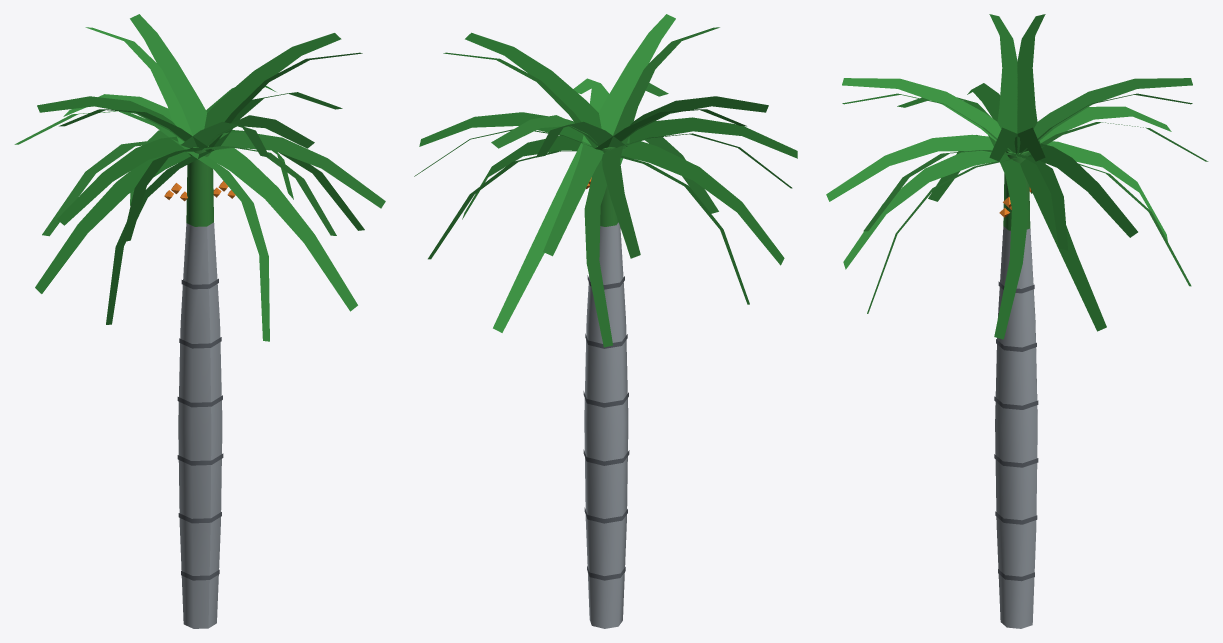
File: royal_palm_tree.glb
The picture shows the model from 3 angles, left to right: view 1: azimuth 30°, elevation 25°; view 2: azimuth 150°, elevation 25°; view 3: azimuth 270°, elevation 25°; orthographic projection.
Visible parts, largest first — view 1: FrondsLight, Trunk, FrondsDeep, Crownshaft, TrunkRings; view 2: FrondsLight, FrondsDeep, Trunk, TrunkRings; view 3: FrondsDeep, FrondsLight, Trunk, TrunkRings, Crownshaft.
Boxes of the visible parts, <box> form: FrondsLight: <box>14,14,385,341</box>; Trunk: <box>178,222,222,628</box>; FrondsDeep: <box>35,33,364,324</box>; Crownshaft: <box>186,146,213,226</box>; TrunkRings: <box>177,278,223,580</box>; FrondsLight: <box>491,14,719,347</box>; FrondsDeep: <box>414,32,797,304</box>; Trunk: <box>584,222,628,628</box>; TrunkRings: <box>583,275,629,580</box>; FrondsDeep: <box>897,14,1137,339</box>; FrondsLight: <box>826,78,1208,313</box>; Trunk: <box>995,226,1037,628</box>; TrunkRings: <box>994,281,1038,581</box>; Crownshaft: <box>1003,151,1030,230</box>.
Bounding box in the file's own units: 5.31 × 8.41 × 5.43.
